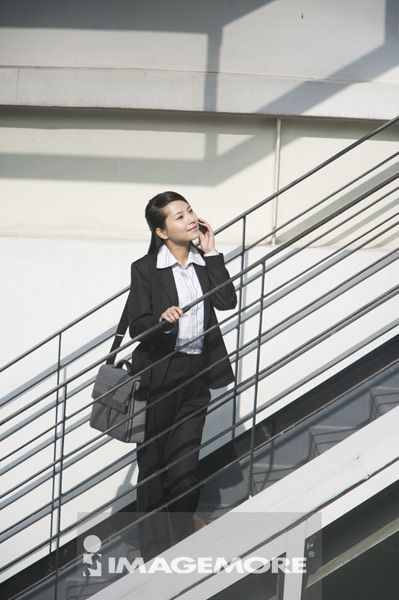talk: (172, 204, 216, 255)
